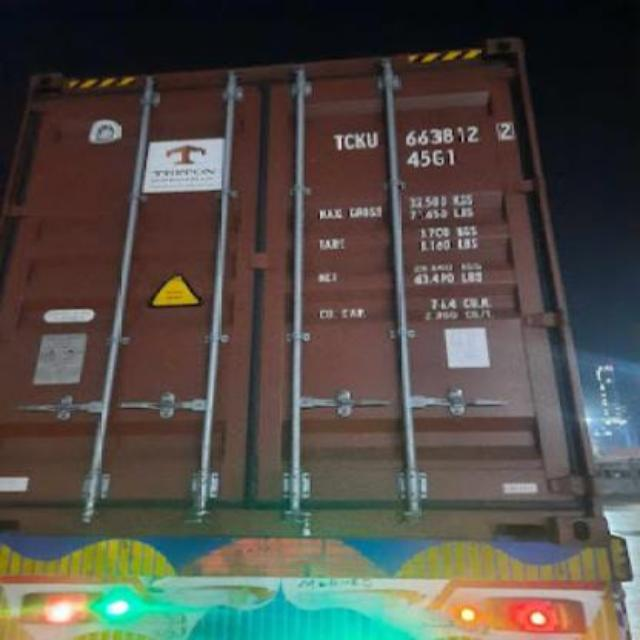1: (456, 122, 468, 148)
2: (494, 118, 516, 144), (466, 121, 482, 151)
3: (430, 125, 442, 146)
6: (400, 125, 416, 148), (416, 124, 429, 148)
8: (440, 122, 452, 146)
C: (344, 128, 356, 156)
K: (354, 128, 368, 156)
T: (330, 126, 346, 154)
U: (366, 127, 384, 151)
